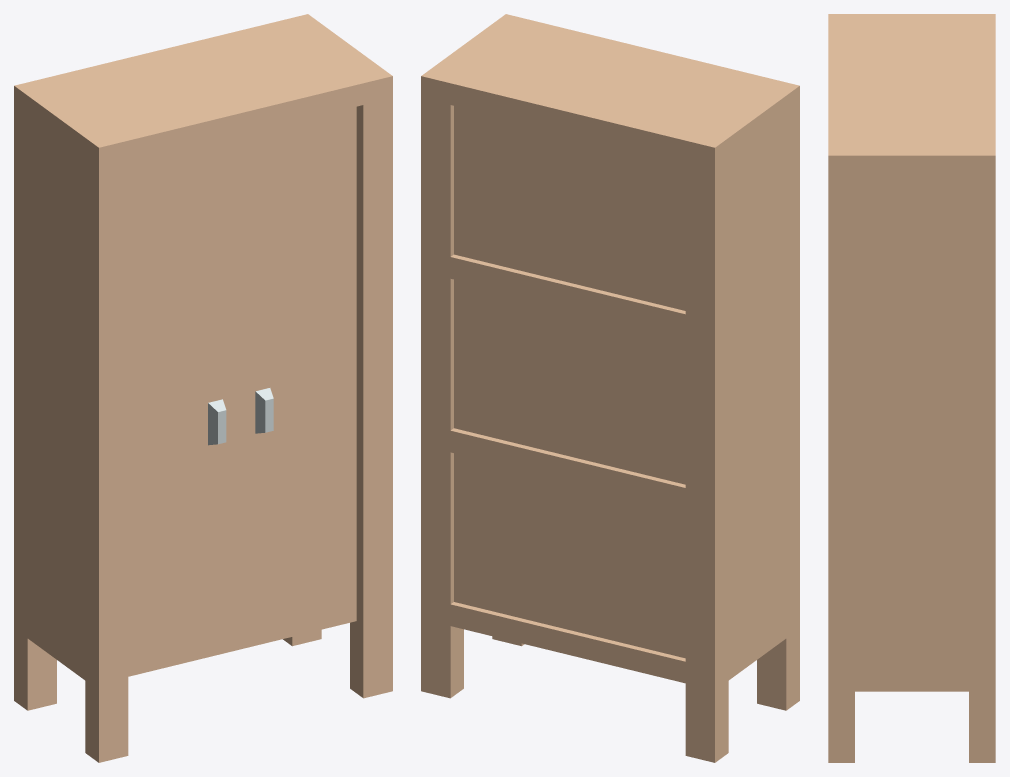
Rendered from bookcaseClosedDoors-alt-col.glb.
3 views of the same model, side by side, from view 1: azimuth 30°, elevation 25°; view 2: azimuth 150°, elevation 25°; view 3: azimuth 270°, elevation 25° (orthographic).
Parts seen in each view (by area): view 1: bookcaseClosedDoors-alt-col; view 2: bookcaseClosedDoors-alt-col; view 3: bookcaseClosedDoors-alt-col.
Part boxes in pixels (box(x1,y1,x2,y2)): bookcaseClosedDoors-alt-col: box(14, 14, 392, 762); bookcaseClosedDoors-alt-col: box(421, 14, 799, 762); bookcaseClosedDoors-alt-col: box(828, 14, 995, 762).
Bounding box in the file's own units: 0.5 × 1 × 0.25.
